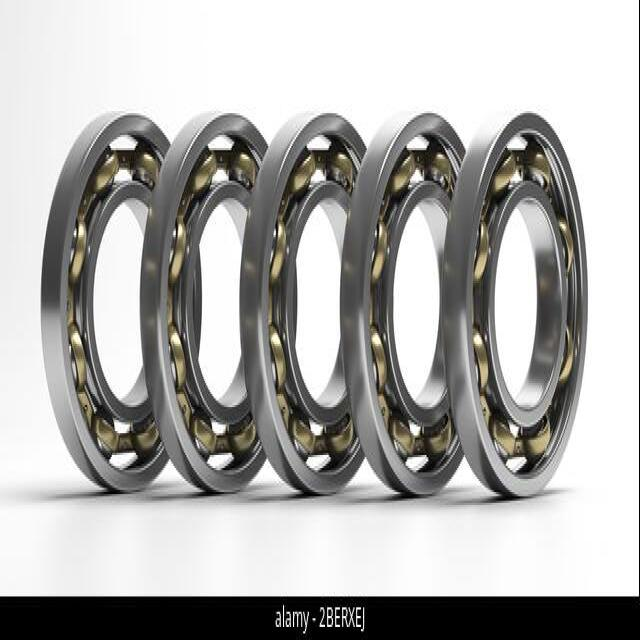Bearing: (37, 107, 202, 501), (139, 107, 301, 501), (443, 104, 590, 506), (237, 104, 368, 502), (339, 107, 468, 503)
